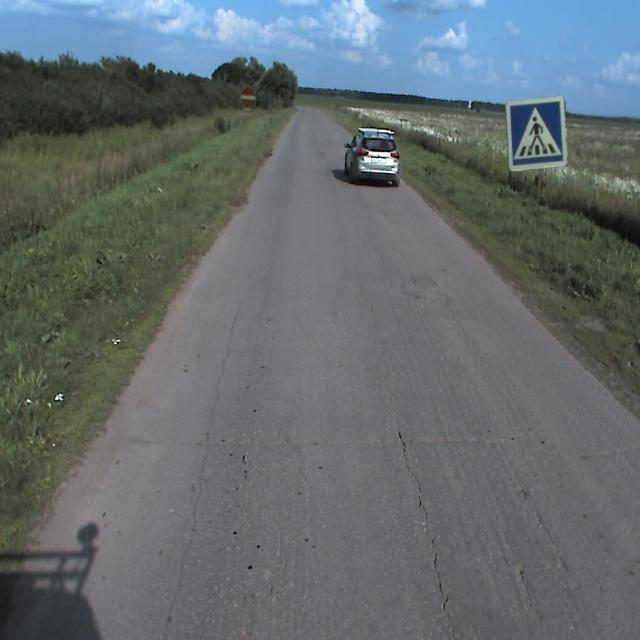road: (17, 109, 639, 639)
